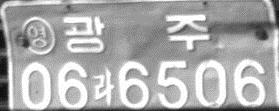0: (193, 57, 227, 110), (20, 62, 52, 111)
5: (156, 60, 189, 110)
6: (232, 57, 267, 109), (56, 61, 88, 110), (117, 61, 149, 110)
광주_D: (62, 14, 209, 54)
라: (91, 67, 115, 107)
영: (20, 16, 55, 55)
